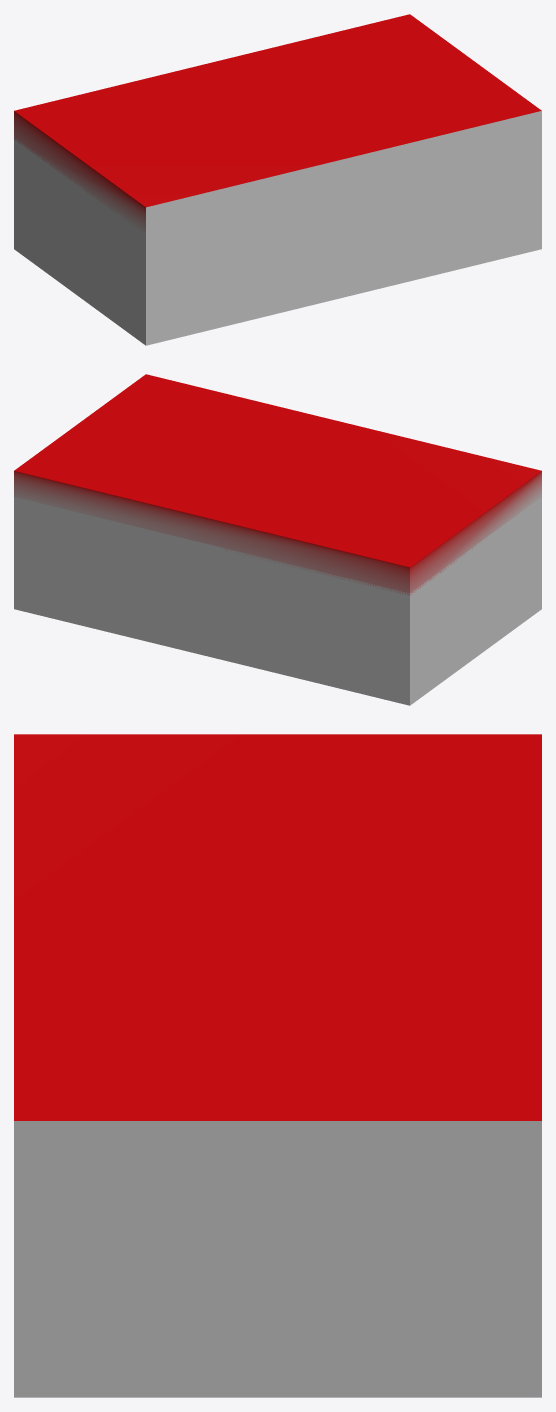
Rendered from GunBoxExport.fbx.
3 views of the same model, one above another, from view 1: azimuth 30°, elevation 25°; view 2: azimuth 150°, elevation 25°; view 3: azimuth 270°, elevation 25° (orthographic). The views are drawn at different scales.
Visible parts, largest first — view 1: BoxCover, Box; view 2: BoxCover, Box; view 3: BoxCover, Box.
Part boxes in pixels (left/top/right/bottom): BoxCover: left=14, top=14, right=541, bottom=235; Box: left=14, top=139, right=541, bottom=345; BoxCover: left=14, top=374, right=541, bottom=595; Box: left=14, top=497, right=541, bottom=705; BoxCover: left=14, top=734, right=541, bottom=1177; Box: left=14, top=1173, right=541, bottom=1397.
Bounding box in the file's own units: 2 × 0.6679 × 1.15.
